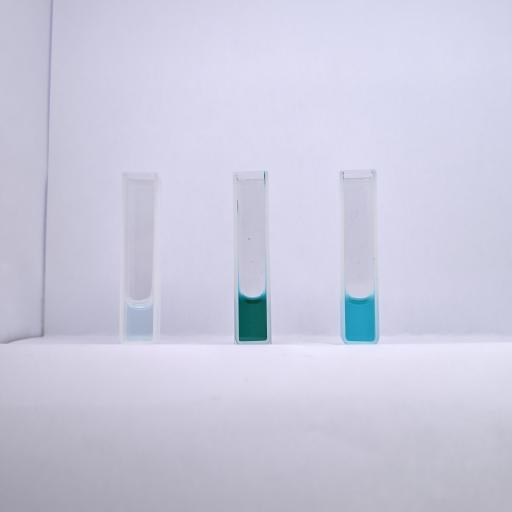cuvette: (338, 168, 382, 344), (118, 168, 161, 345), (231, 168, 274, 345)
liquid: (346, 292, 376, 340), (238, 293, 267, 341), (124, 297, 152, 341)
